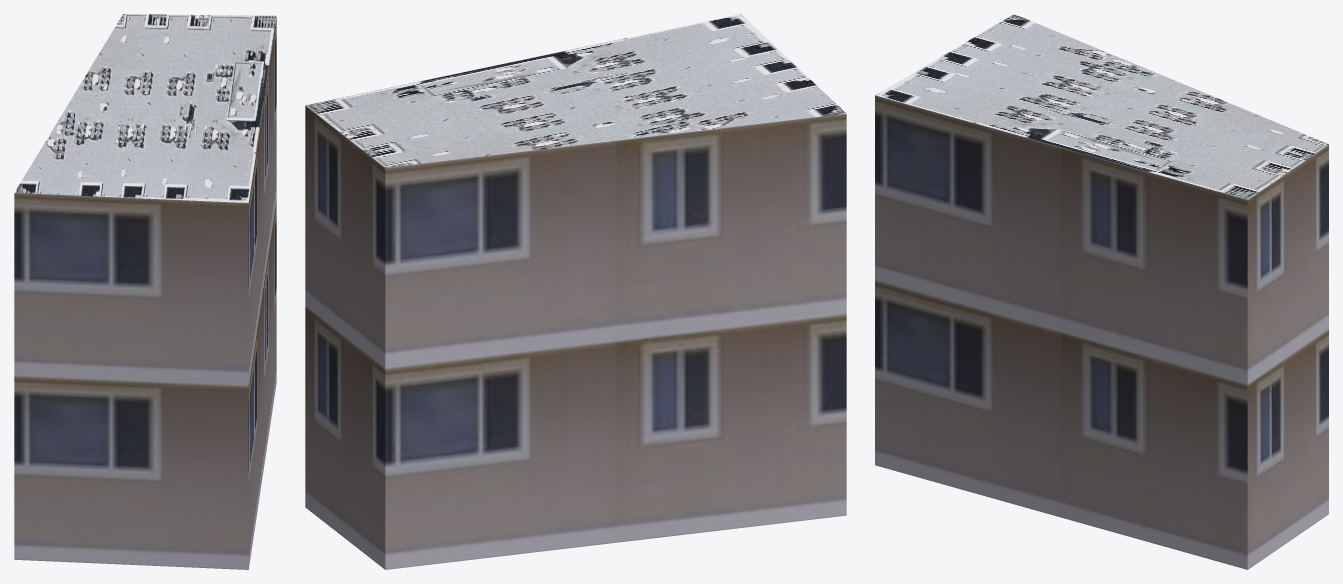
Rendered from ResTex__4867.fbx.
3 renders of one model, left to right at view 1: azimuth 30°, elevation 25°; view 2: azimuth 150°, elevation 25°; view 3: azimuth 270°, elevation 25°, orthographic. The views are drawn at different scales.
Visible parts, largest first — view 1: CityEngineMaterial_21_m, CityEngineMaterial_m; view 2: CityEngineMaterial_21_m, CityEngineMaterial_m; view 3: CityEngineMaterial_21_m, CityEngineMaterial_m.
Part boxes in pixels (x1=…): CityEngineMaterial_21_m: x1=14, y1=17, x2=276, y2=569; CityEngineMaterial_m: x1=14, y1=14, x2=276, y2=202; CityEngineMaterial_21_m: x1=305, y1=105, x2=846, y2=569; CityEngineMaterial_m: x1=306, y1=14, x2=846, y2=167; CityEngineMaterial_21_m: x1=875, y1=95, x2=1328, y2=569; CityEngineMaterial_m: x1=875, y1=14, x2=1328, y2=199.
Bounding box in the file's own units: 6.47 × 6 × 6.67.
Materials: 2 (2 with a texture image).
